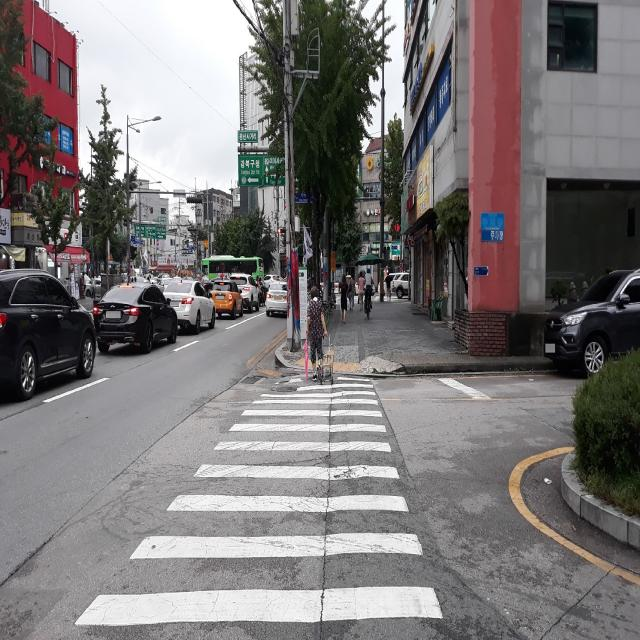횡단보도: (74, 377, 442, 627)
